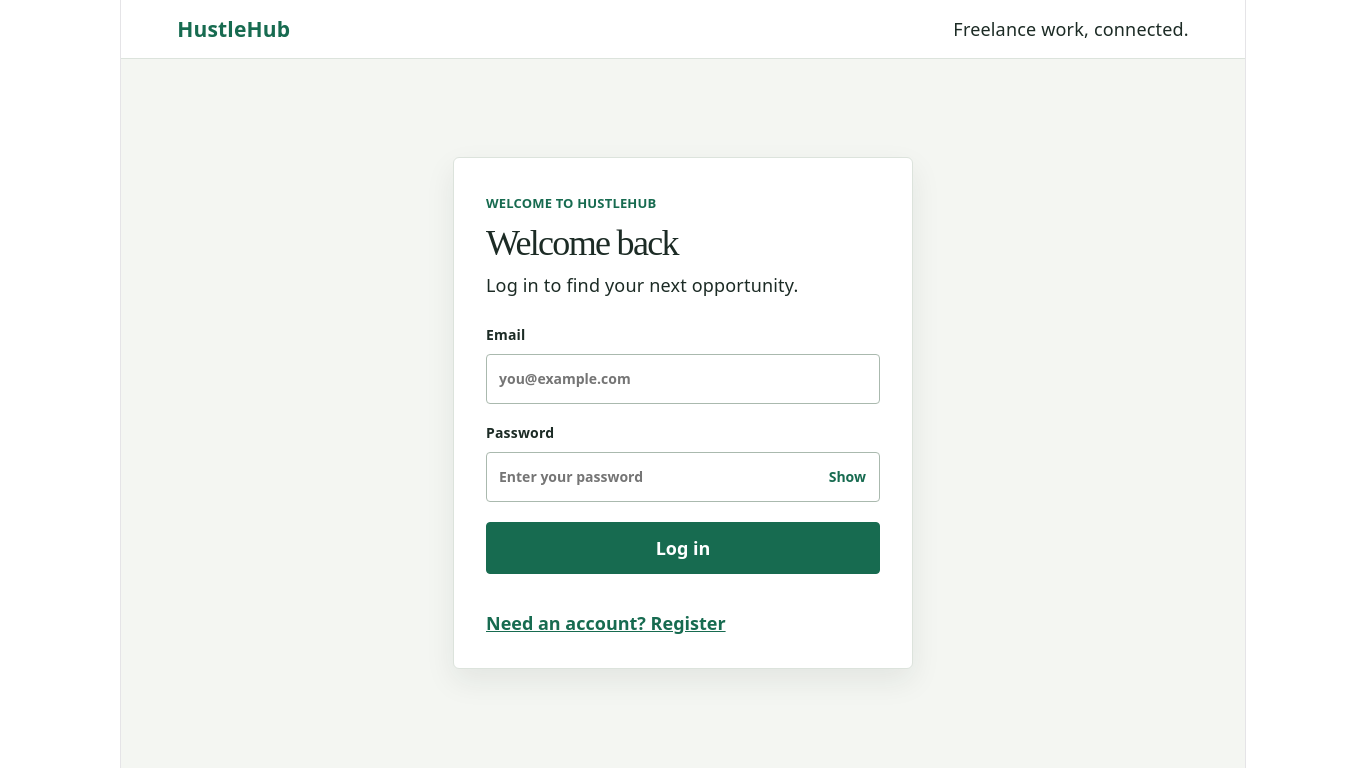
Test: App authentication screens › logs in, stores the token for the session and opens the marketplace
Type "cara@example.com" into the field labelled "Email" at (683, 379), box [486, 354, 880, 404]
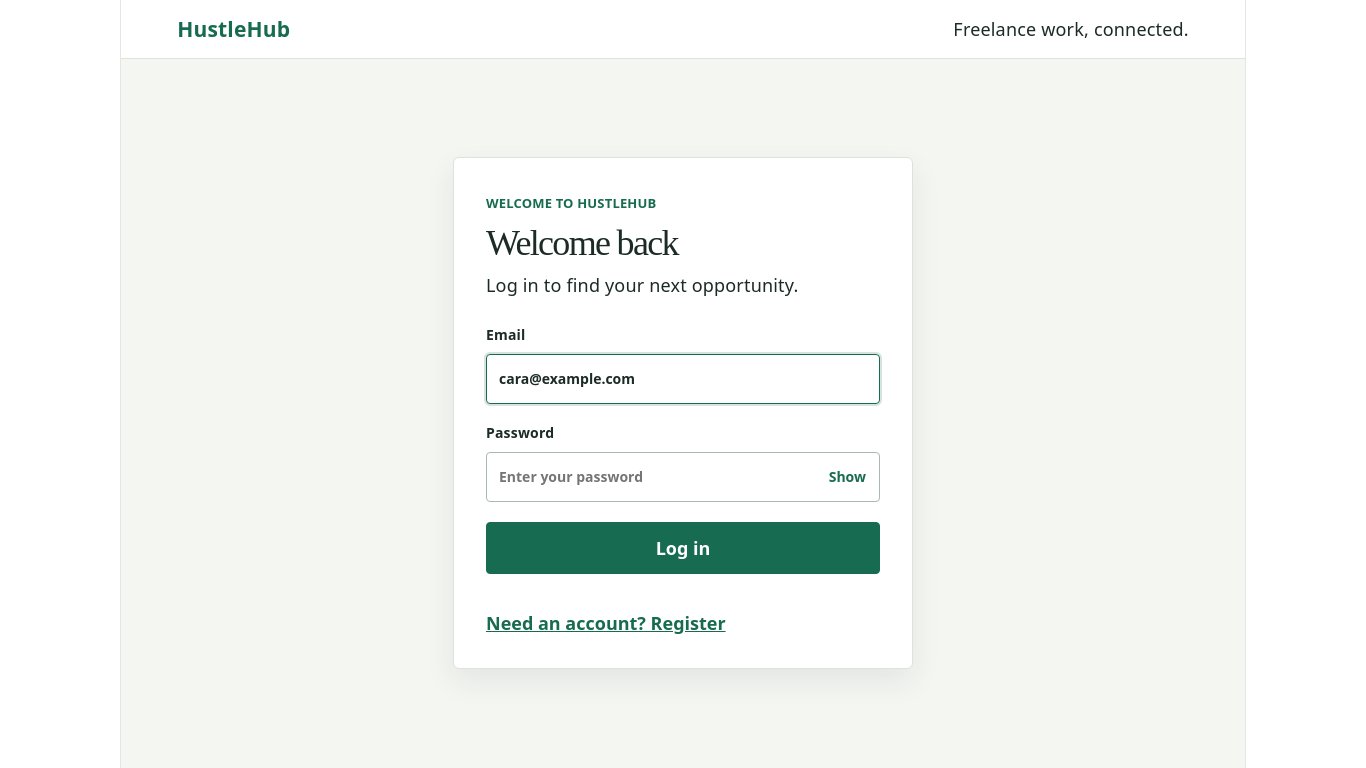
Type "Str0ngPass!" into the password field with placeholder "Enter your password" at (683, 477), box [486, 452, 880, 502]
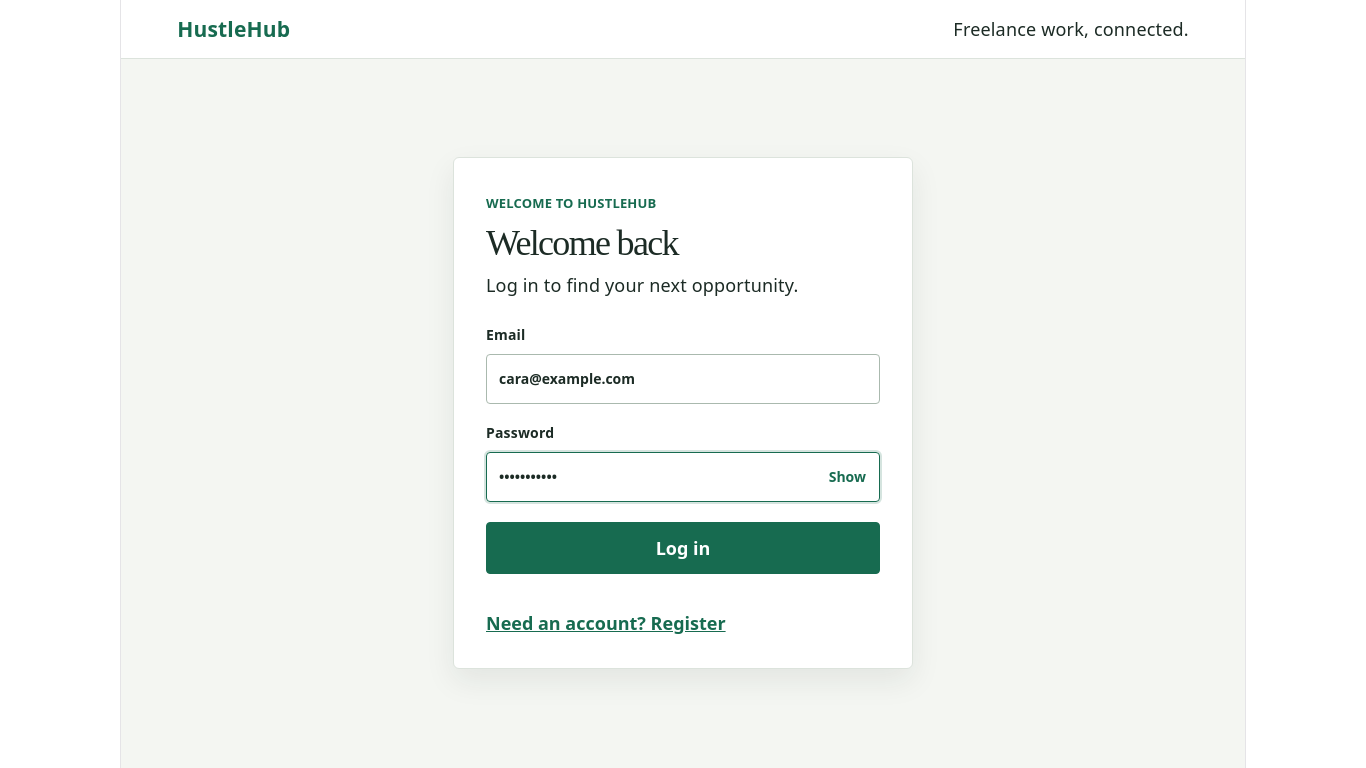
Click the button "Log in" at (683, 548), box [486, 522, 880, 574]
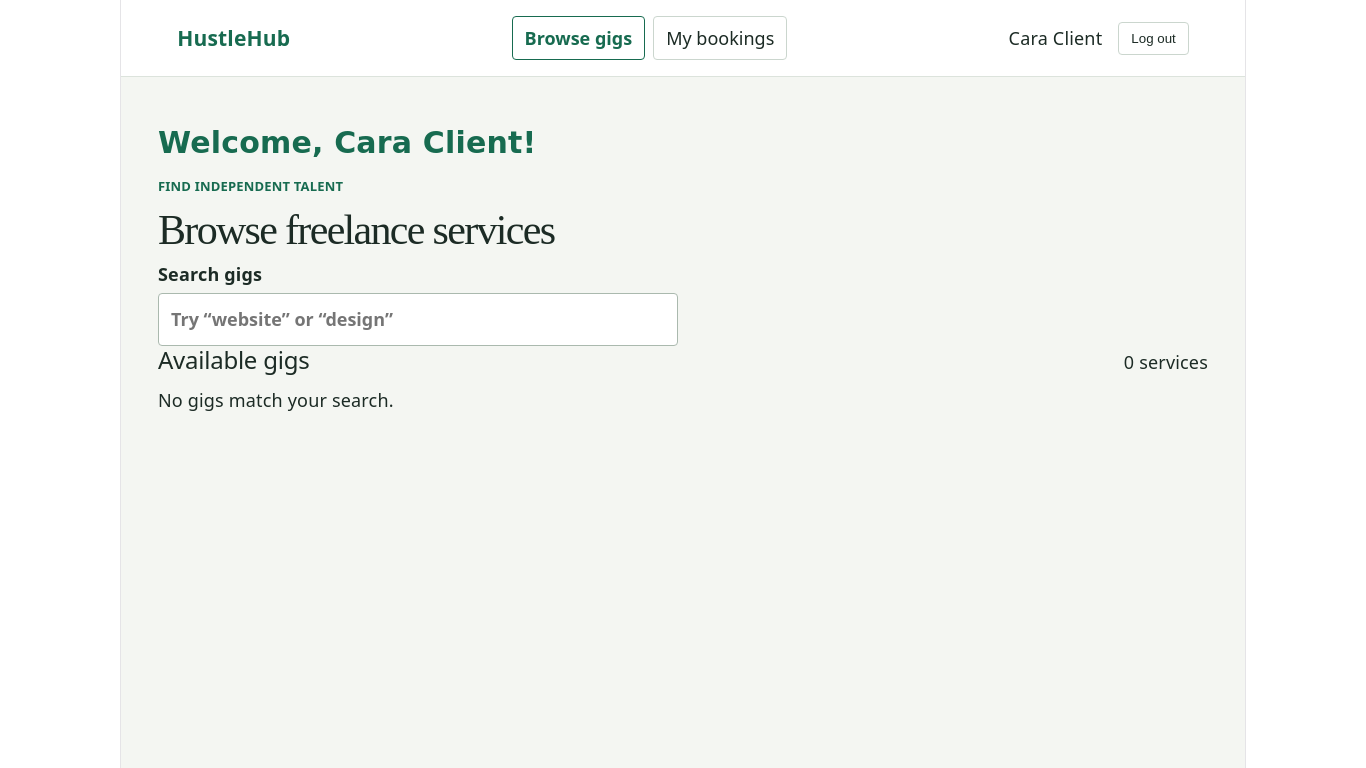
Now the text "Welcome, Cara Client!" is shown, box [158, 125, 536, 160]
